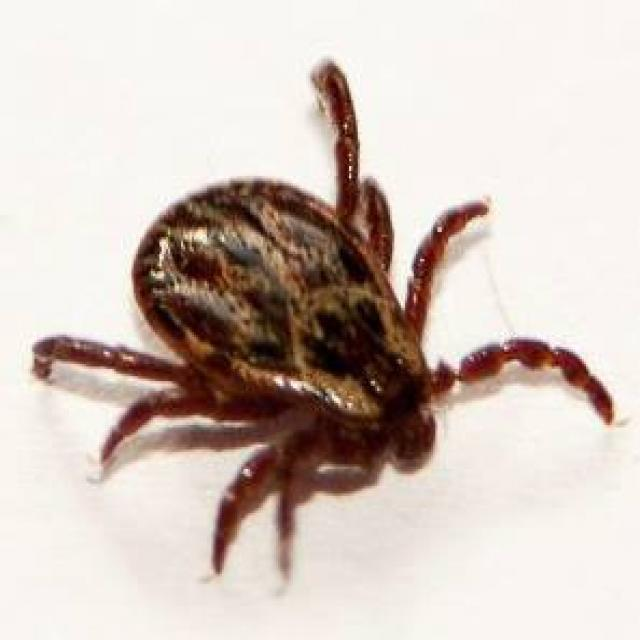Dermacentor Reticulatus-M: (30, 61, 614, 596)
